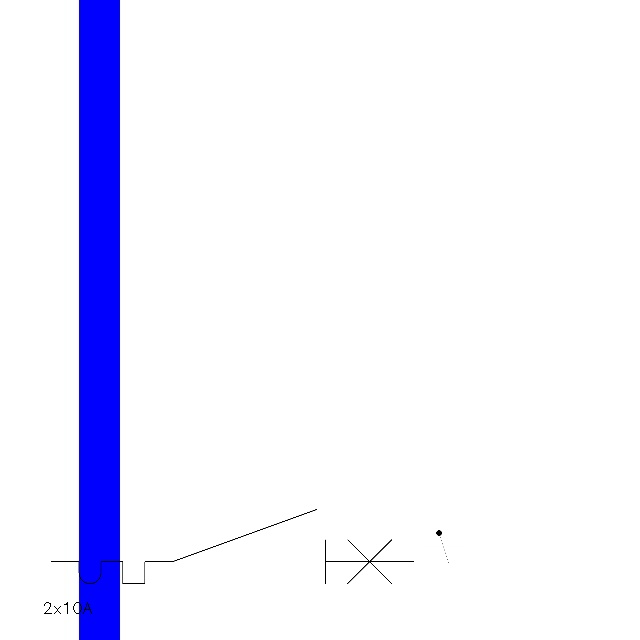interruptor_termomagnetico: (42, 500, 422, 593)
